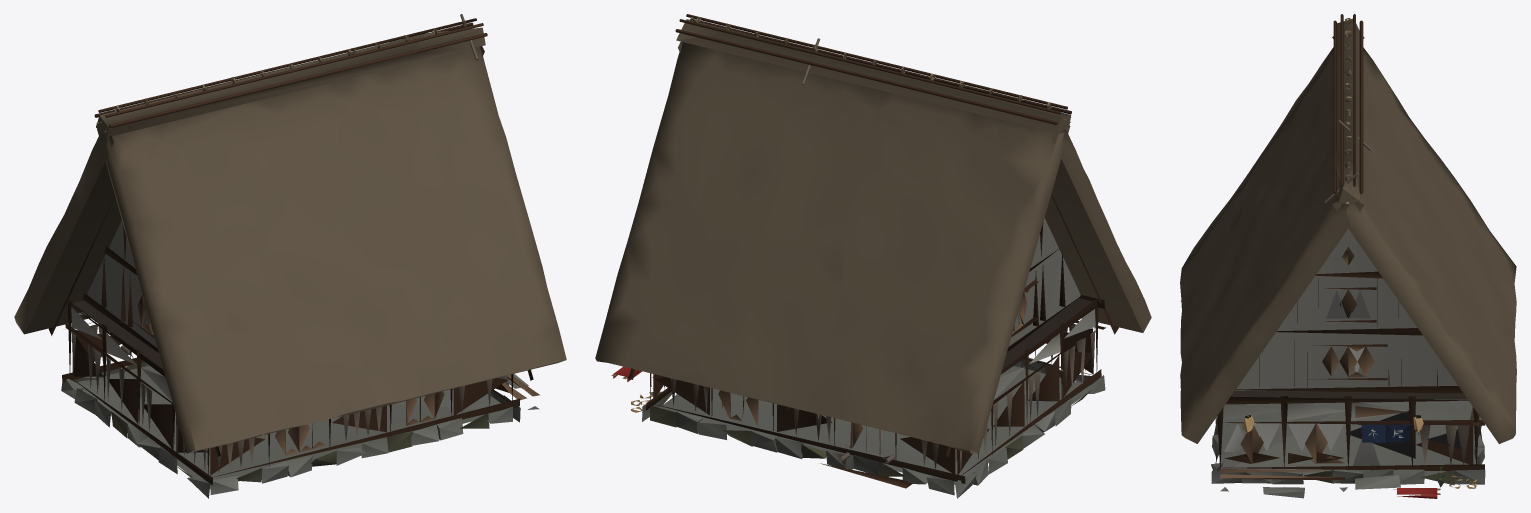
The model's file is SM_Minka_01.glb.
3 renders of one model, left to right at view 1: azimuth 30°, elevation 25°; view 2: azimuth 150°, elevation 25°; view 3: azimuth 270°, elevation 25°, orthographic. The views are drawn at different scales.
Parts seen in each view (by area): view 1: SM_Minka_01; view 2: SM_Minka_01; view 3: SM_Minka_01.
Boxes of the visible parts, x1,y1,x2,y2 form: SM_Minka_01: [14, 14, 566, 498]; SM_Minka_01: [595, 14, 1151, 498]; SM_Minka_01: [1180, 14, 1516, 498].
Bounding box in the file's own units: 13.76 × 11.35 × 10.79.
